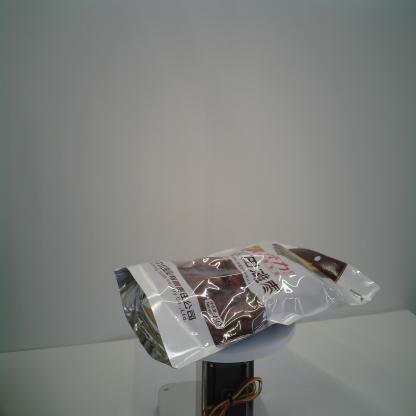Dried Food: (112, 239, 381, 368)
